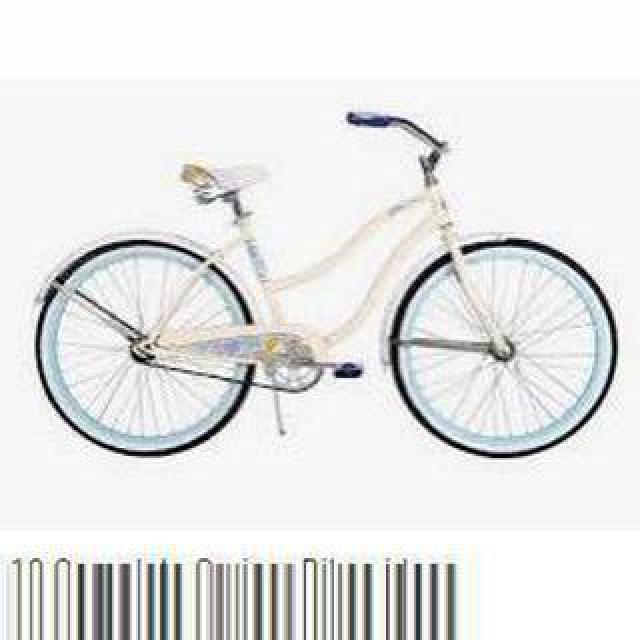Person: (35, 112, 623, 494)
